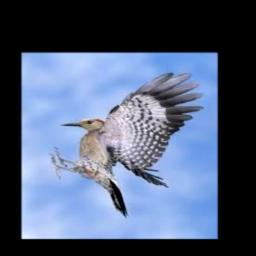Woodpecker: (49, 73, 204, 217)
